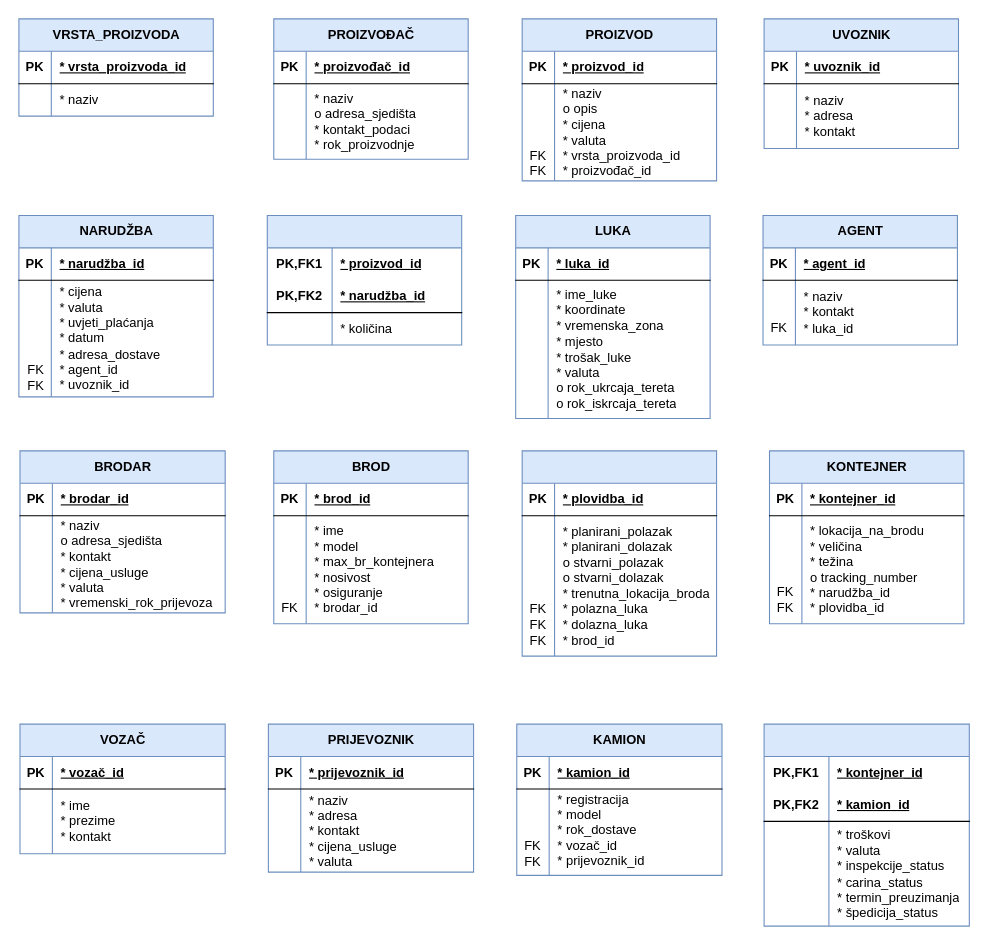
The diagram is 988 pixels wide and 945 high, and some of its shapes have lost their labels. The shapes that lost their labels are listed below. From the top down, each one's box as (x1, y1, x2, y2) in pixels, then its label:
(266, 214, 462, 345): STAVKA
(521, 450, 717, 656): PLOVIDBE
(763, 723, 969, 926): ISKRCAJ
